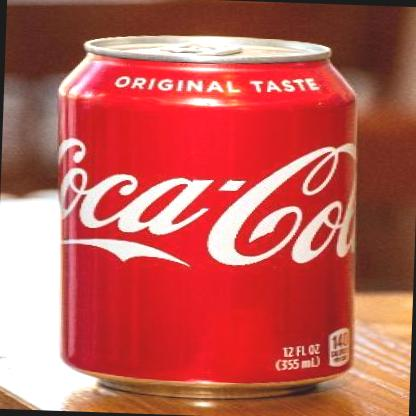alumunium_can: (45, 27, 360, 404)
